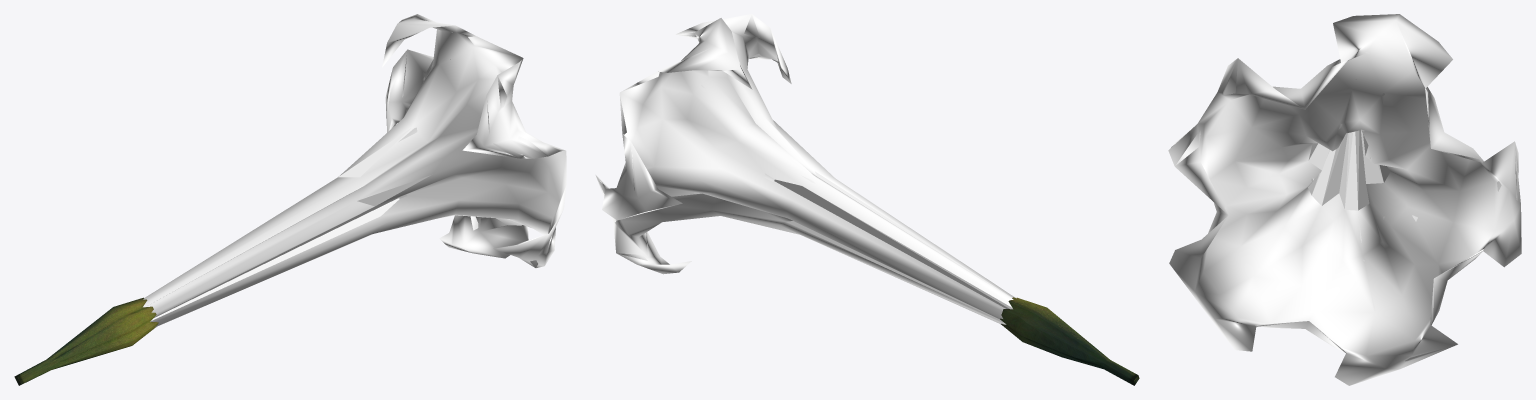
File: 03_ING_trunpetflower.glb
3 views of the same model, side by side, from view 1: azimuth 30°, elevation 25°; view 2: azimuth 150°, elevation 25°; view 3: azimuth 270°, elevation 25° (orthographic). The views are drawn at different scales.
Parts seen in each view (by area): view 1: 03_ING_trunpetflower; view 2: 03_ING_trunpetflower; view 3: 03_ING_trunpetflower.
Part boxes in pixels (x1,y1,x2,y2): 03_ING_trunpetflower: (14,14,566,385); 03_ING_trunpetflower: (595,14,1139,385); 03_ING_trunpetflower: (1168,14,1521,385).
Bounding box in the file's own units: 0.1099 × 0.0524 × 0.0491.
